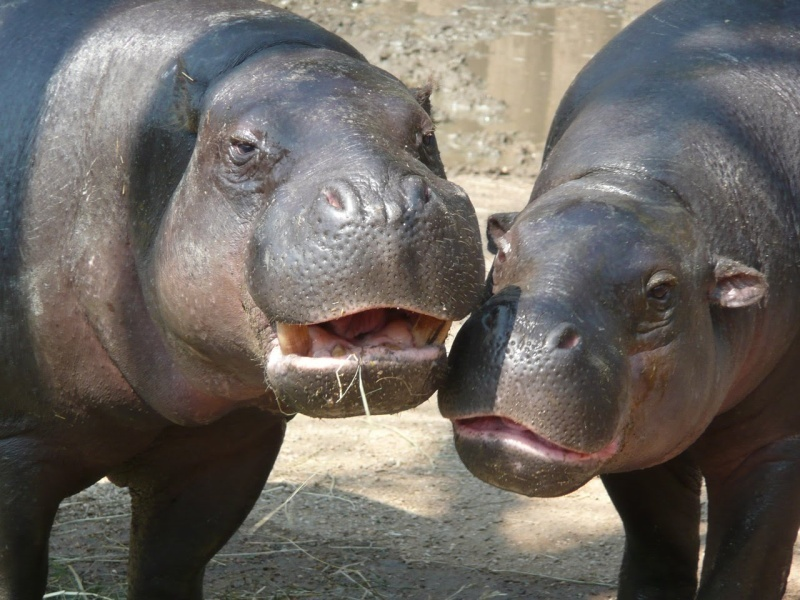hipopotamo: (1, 1, 463, 600), (428, 1, 800, 600)
